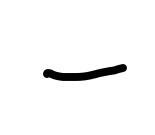minus: (43, 64, 127, 82)
